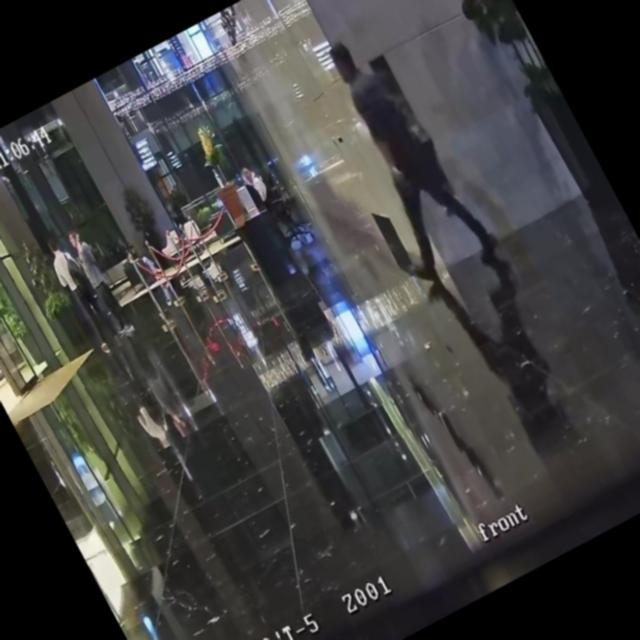person: (297, 18, 504, 296), (39, 230, 121, 354), (63, 225, 137, 341), (122, 235, 166, 288), (238, 160, 272, 204)
